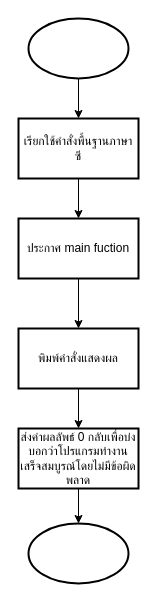
Some shapes in this 156 by 601 pixel diagram are drawn without their labels. Each missing label, with the centre of its shape:
End: (78,553)
Start: (78,48)
